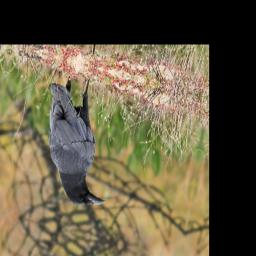Crow: (30, 66, 125, 212)
